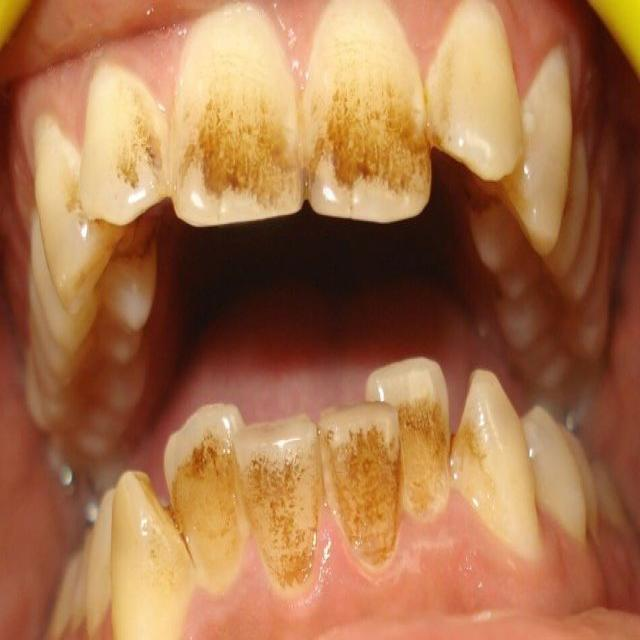LLCI_sdecay: (318, 406, 401, 567)
LLC_sdecay: (451, 369, 546, 564)
LLLI_sdecay: (395, 354, 453, 523)
LRCI_sdecay: (240, 413, 320, 598)
LRC_mdecay: (112, 469, 196, 640)
LRLI_sdecay: (164, 402, 242, 583)
ULCI_sdecay: (307, 1, 434, 223)
ULC_mdecay: (505, 43, 575, 256)
ULLI_mdecay: (429, 1, 522, 183)
URCI_sdecay: (174, 4, 305, 228)
URC_mdecay: (31, 113, 120, 317)
URLI_sdecay: (77, 58, 175, 225)
